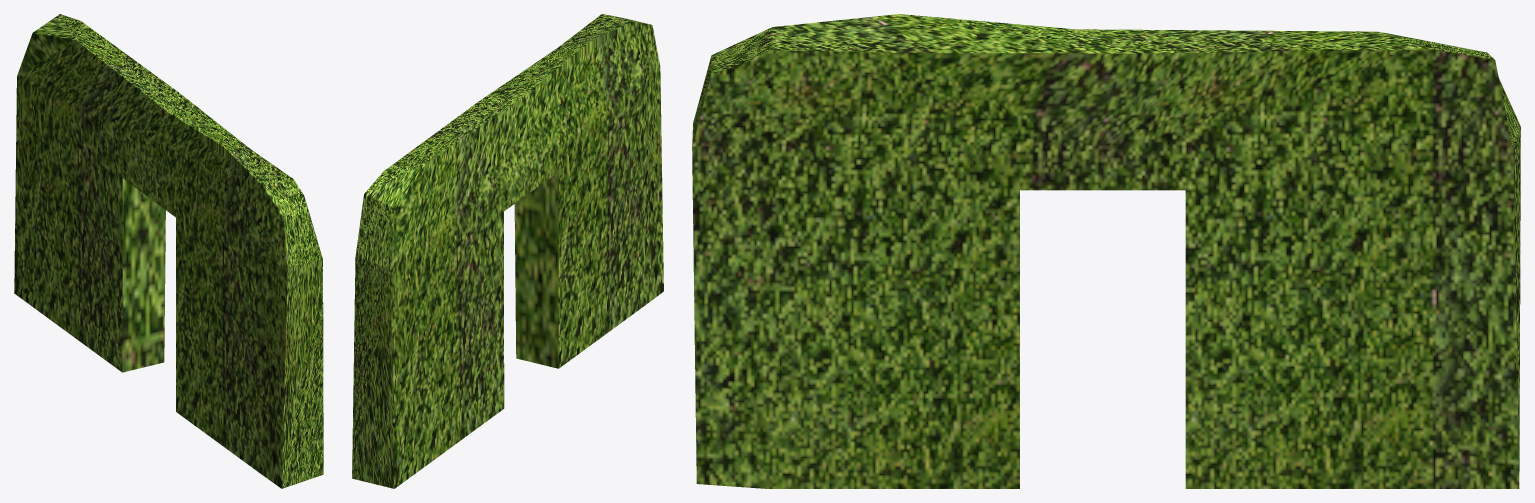
Rendered from hedge_door_5x3x0.5.glb.
3 renders of one model, left to right at view 1: azimuth 30°, elevation 25°; view 2: azimuth 150°, elevation 25°; view 3: azimuth 270°, elevation 25°, orthographic. The views are drawn at different scales.
Visible parts, largest first — view 1: Cube.001; view 2: Cube.001; view 3: Cube.001.
Boxes of the visible parts, x1=… form: Cube.001: x1=14, y1=14, x2=323, y2=488; Cube.001: x1=352, y1=14, x2=663, y2=488; Cube.001: x1=692, y1=14, x2=1520, y2=488.
Bounding box in the file's own units: 0.5 × 3 × 5.
Materials: 1 (1 with a texture image).
